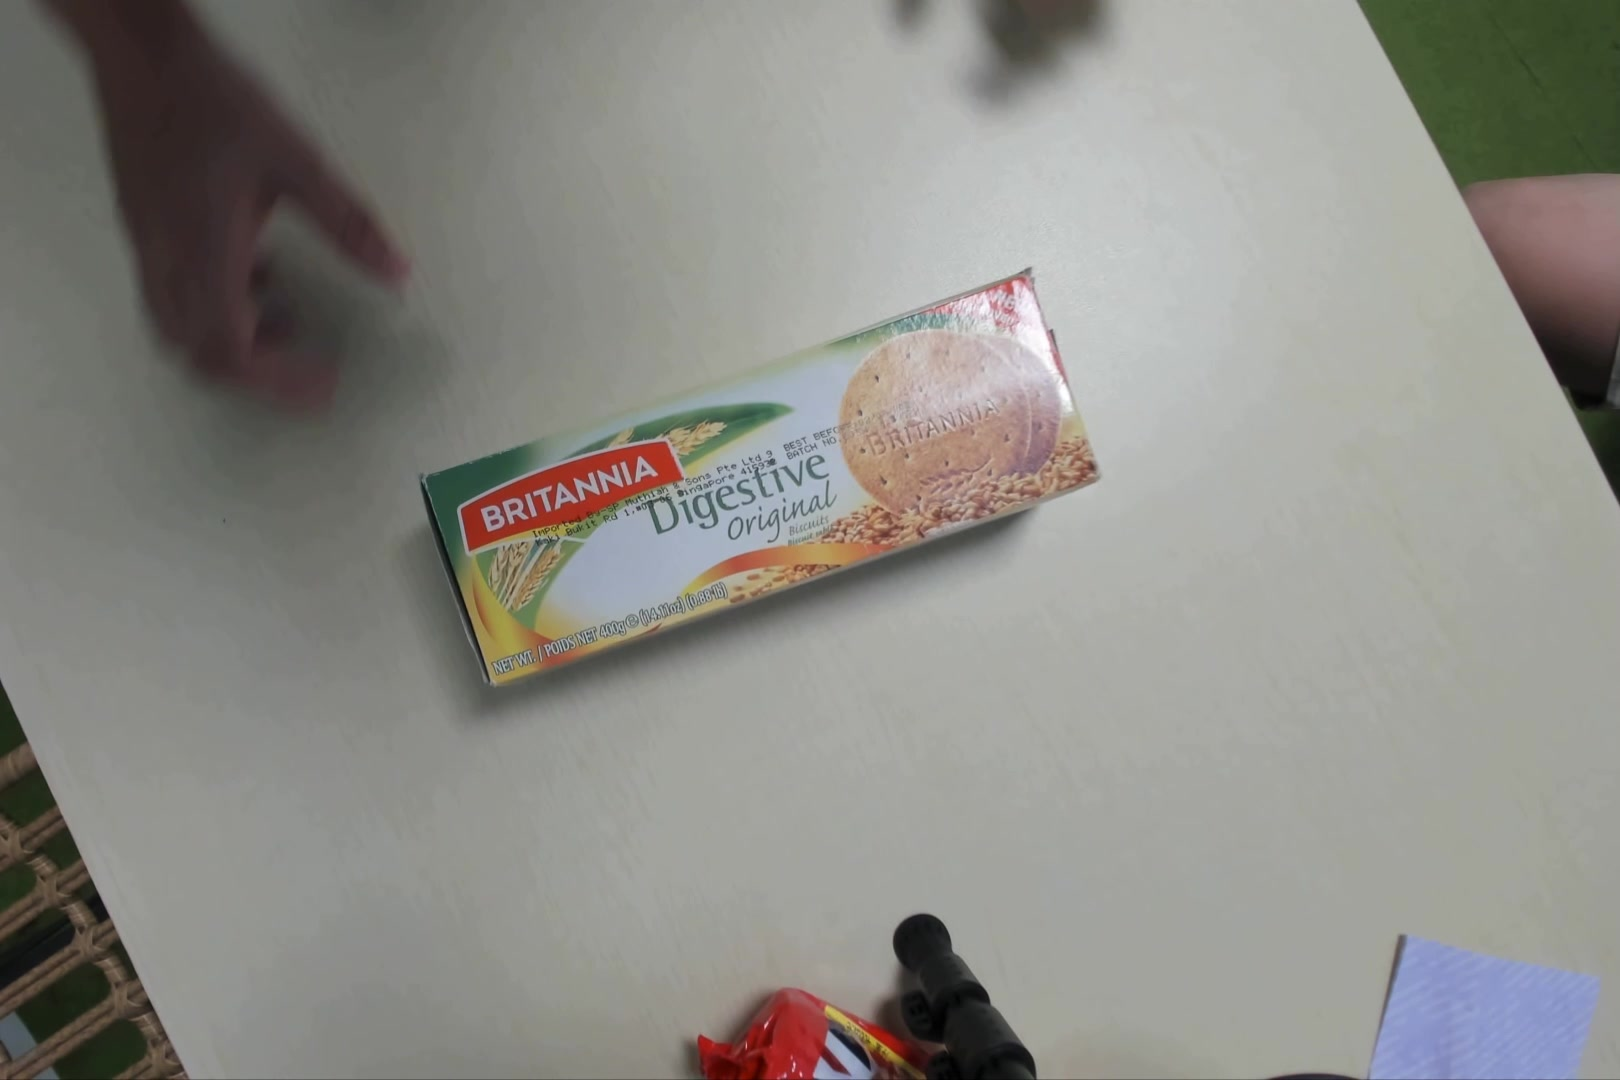BiscuitsCrackersCookies_400-499g_NonHalal_NonHealthy: (422, 262, 1109, 703)
